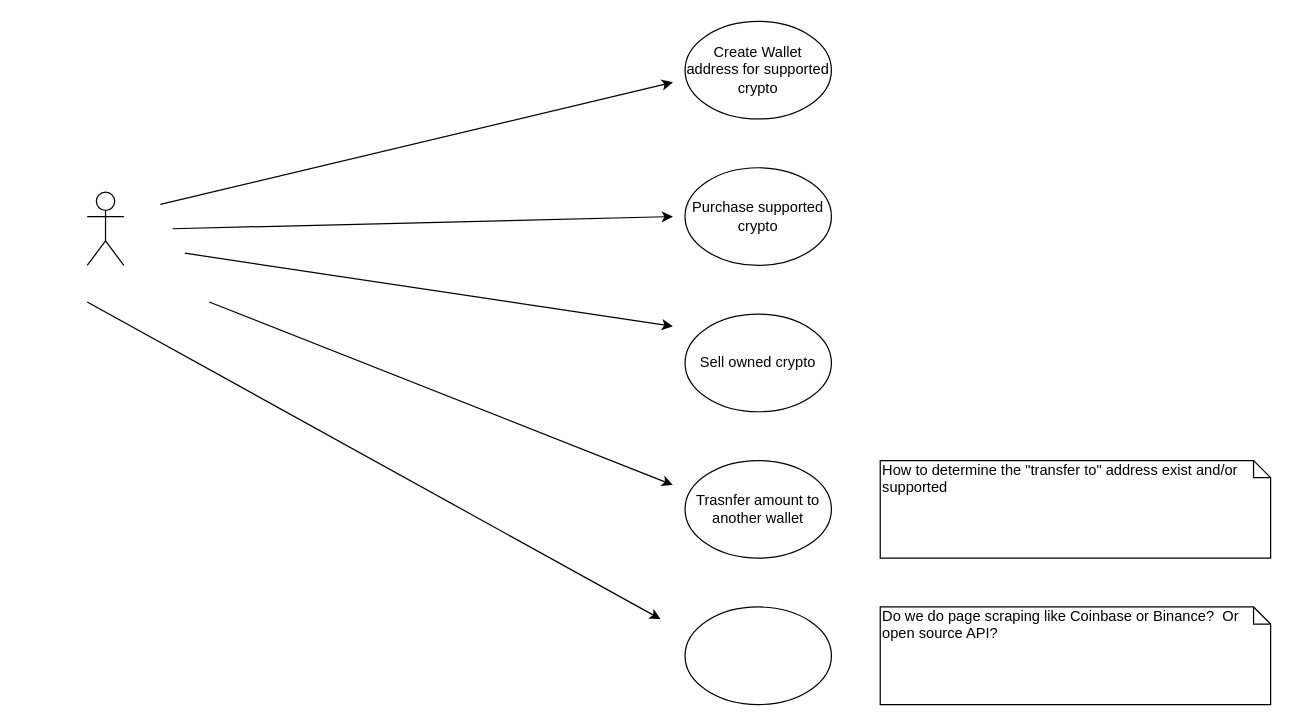
The diagram is 1292 pixels wide and 726 high, and some of its shapes have lost their labels. Each missing label, with the centre of its shape:
"Crypto PiPs Wallet Owner" goes at point 105,228.
"View overall crypto market" goes at point 757,655.
